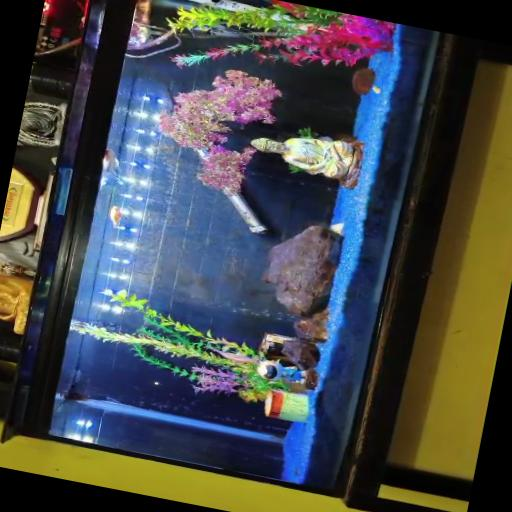Fish: (100, 149, 123, 186), (211, 347, 260, 363), (109, 205, 121, 227), (373, 86, 382, 92)
